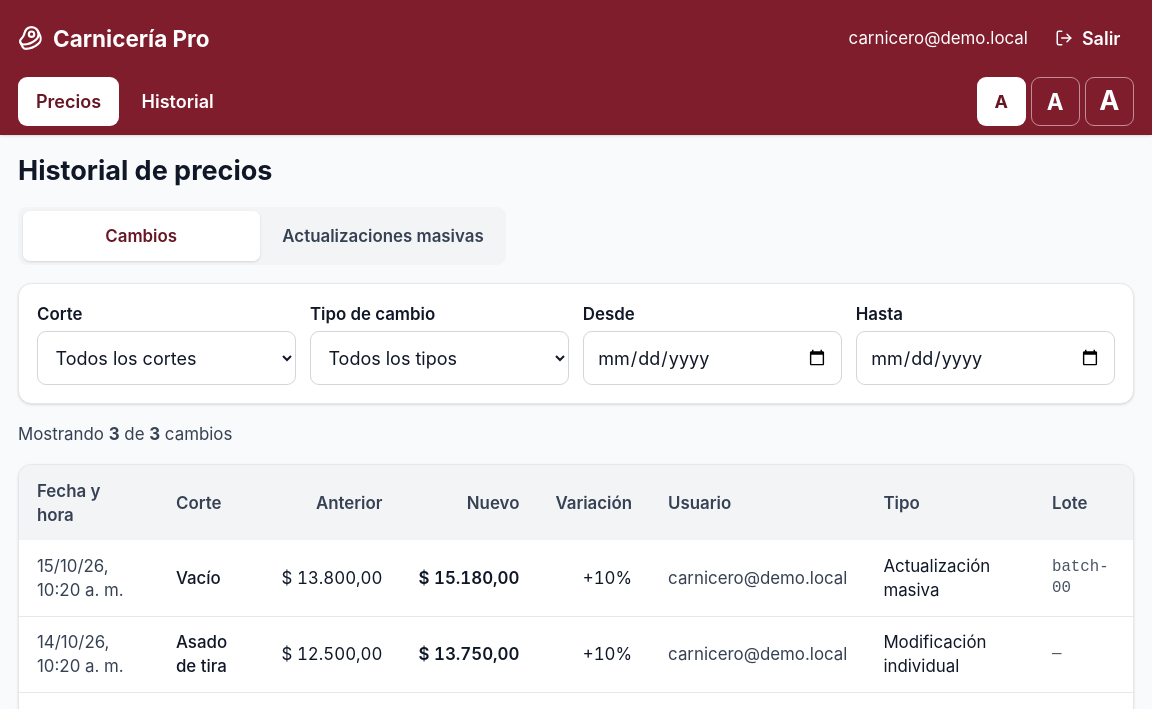
Test: HistoryPage › agrupa las actualizaciones masivas y muestra sus cortes
Click the tab "Actualizaciones masivas" at (383, 236), box [264,212,502,261]
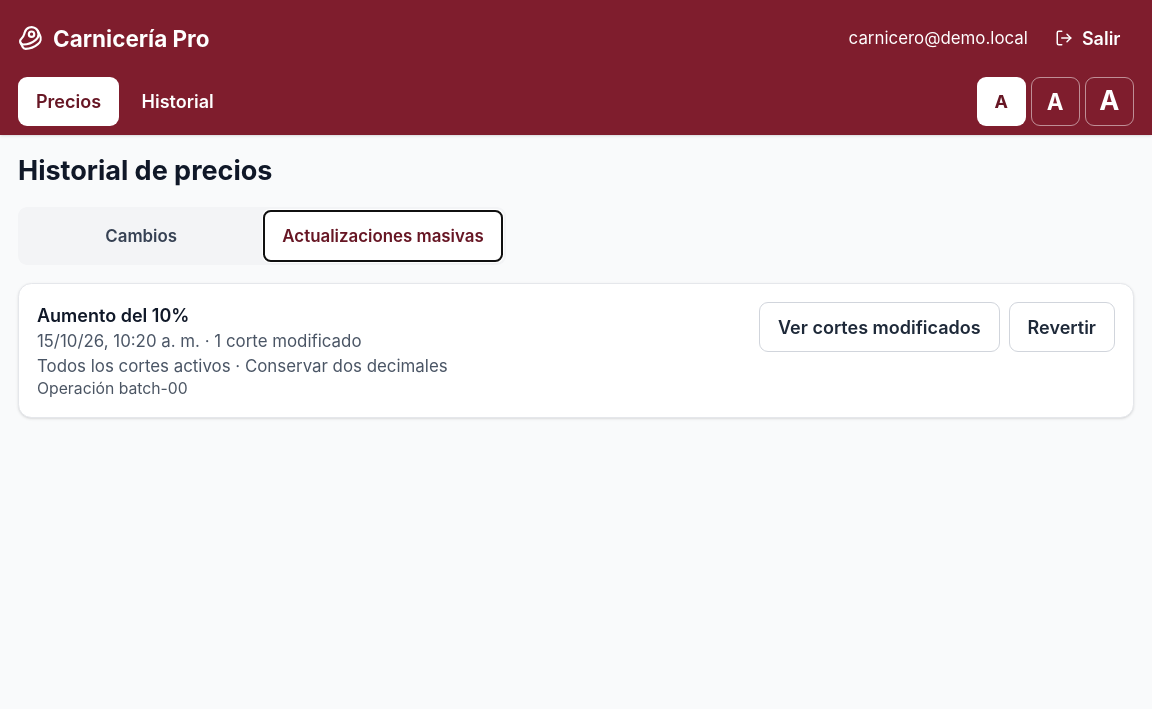
Check: the heading "Aumento del 10%" is shown, box [37,306,189,326]
Click the button "Ver cortes modificados" at (879, 327), box [759,302,1000,352]
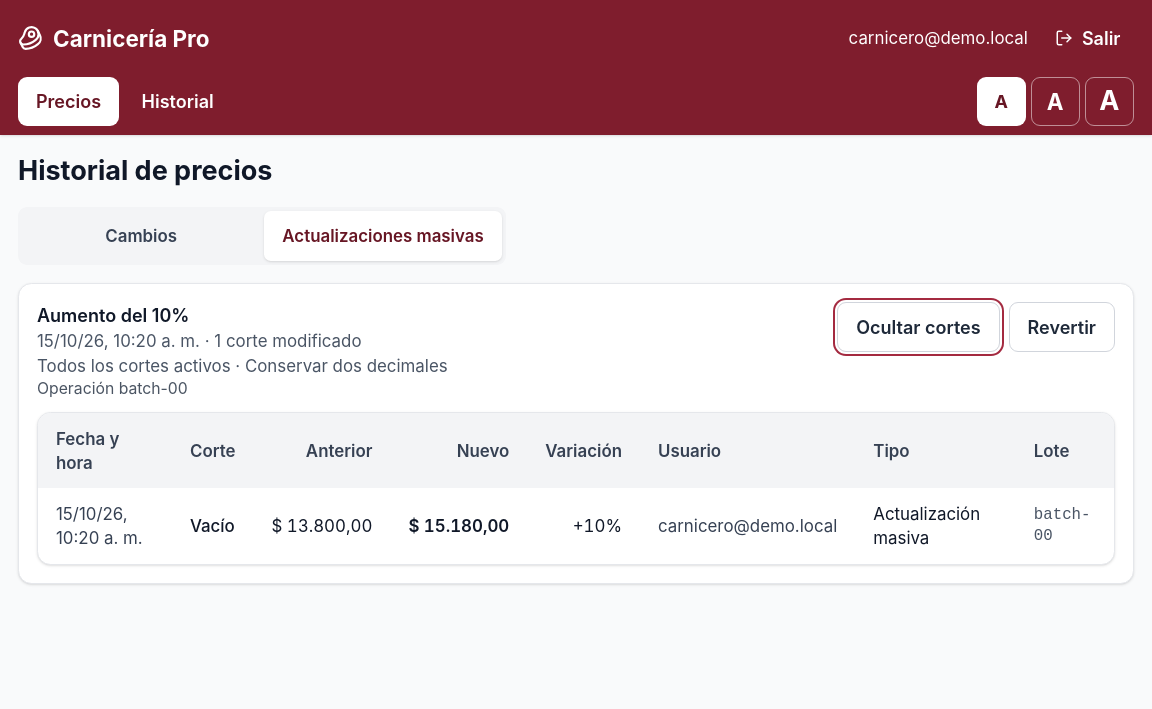
Check: the text "Vacío" is shown, box [172,488,254,564]
